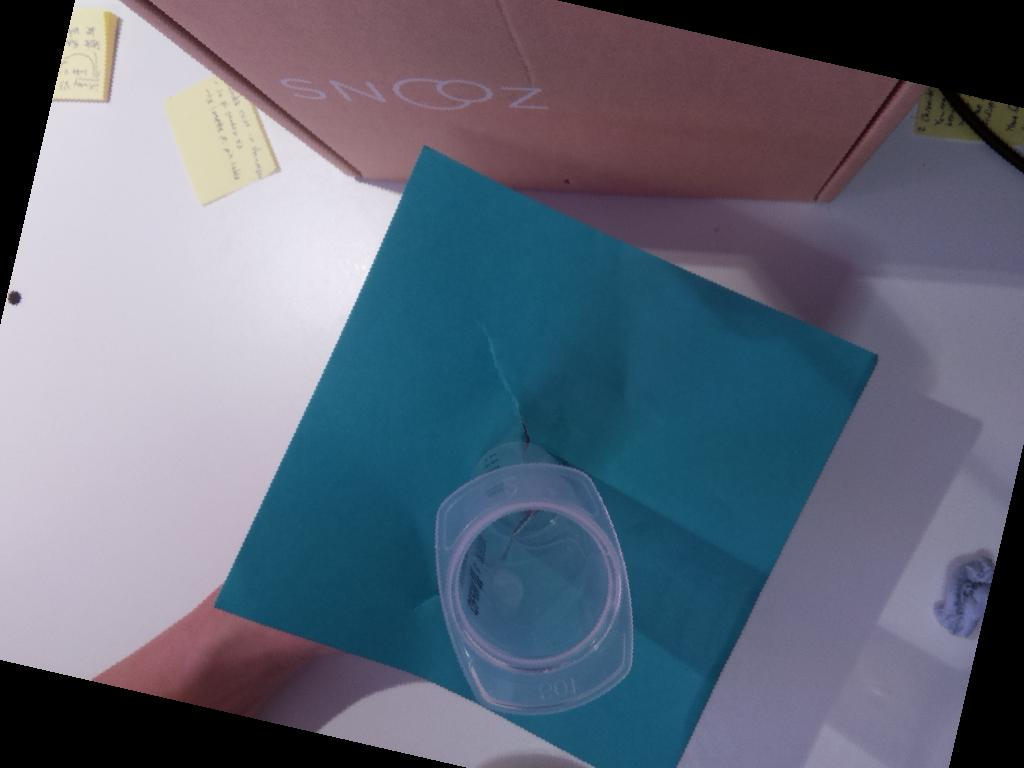clean: (426, 459, 636, 720)
